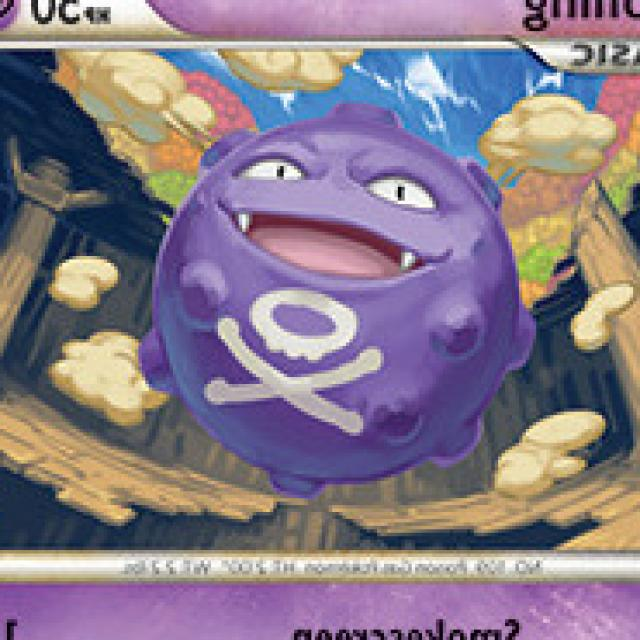Koffing: (144, 113, 533, 495)
